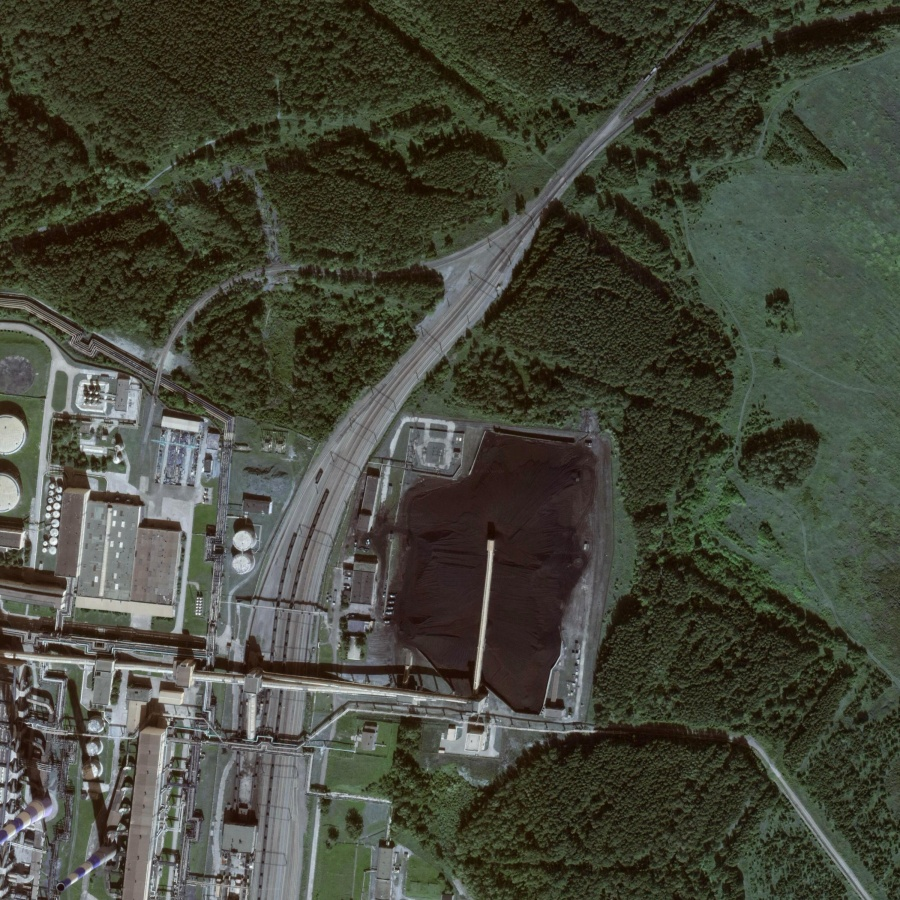PowerPlant: (327, 410, 597, 724)
